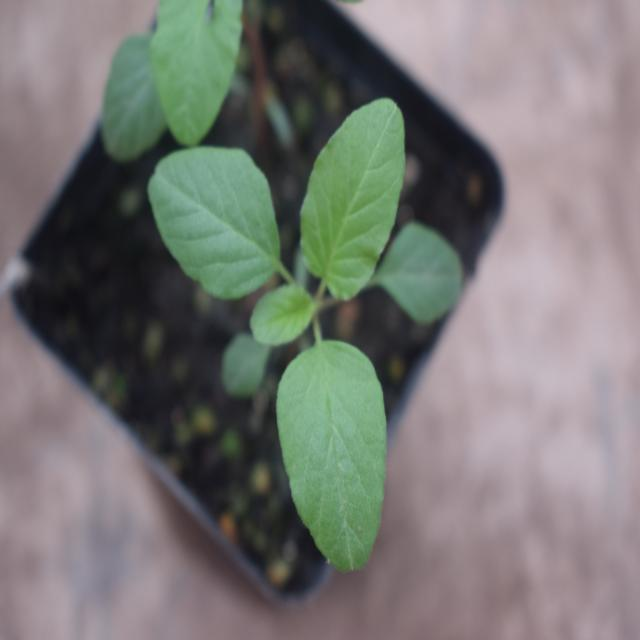pigweed: (145, 105, 436, 567)
